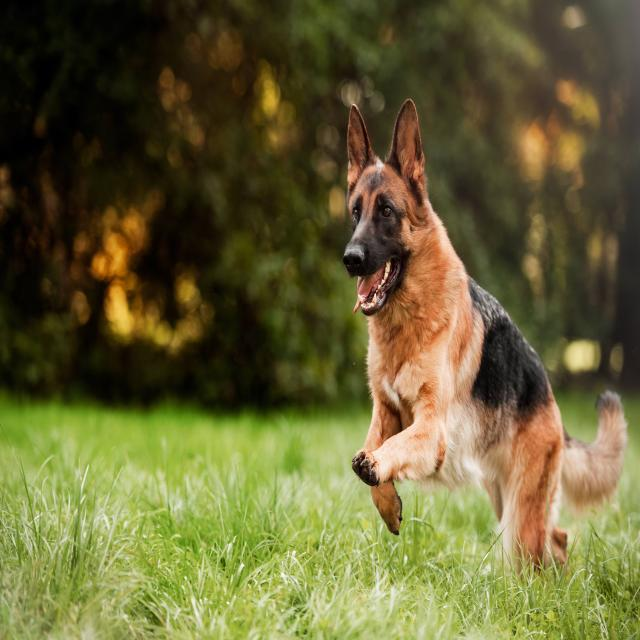GERMAN_SHEPHERD: (330, 90, 629, 588)
